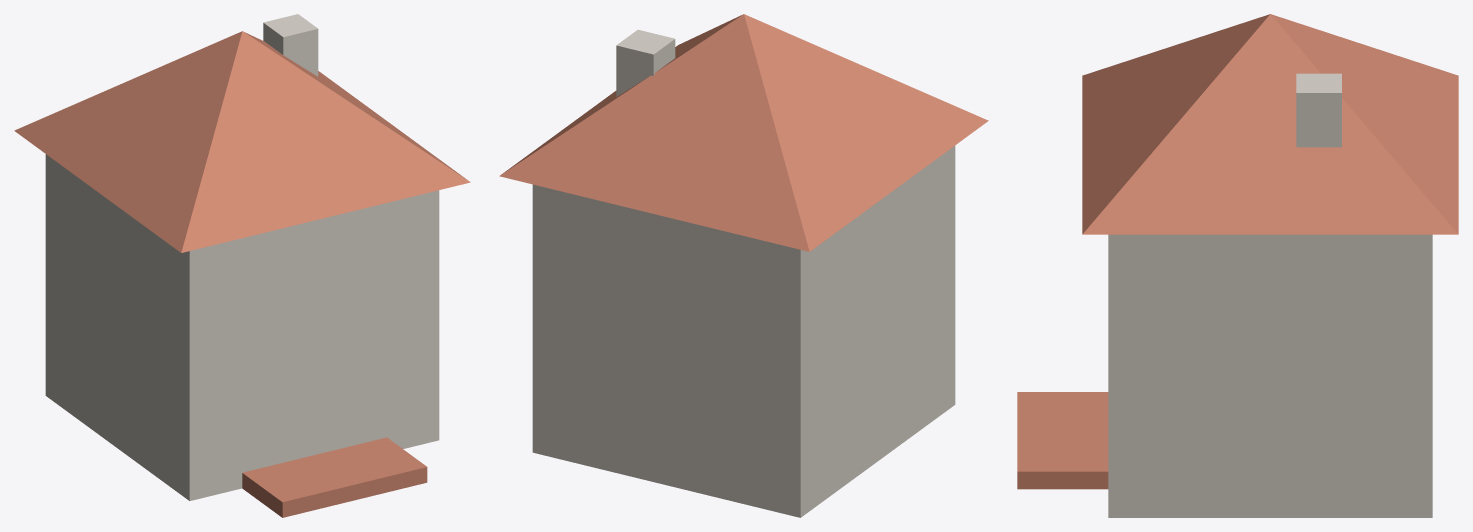
The model's file is bldg_house.glb.
The picture shows the model from 3 angles, left to right: view 1: azimuth 30°, elevation 25°; view 2: azimuth 150°, elevation 25°; view 3: azimuth 270°, elevation 25°; orthographic projection. The views are drawn at different scales.
Parts seen in each view (by area): view 1: bldg_house; view 2: bldg_house; view 3: bldg_house.
Part boxes in pixels (x1,y1,x2,y2): bldg_house: [14, 14, 470, 517]; bldg_house: [499, 14, 988, 517]; bldg_house: [1017, 14, 1458, 517].
Size of the model in its own units: 1.16 by 1.48 by 1.36.
